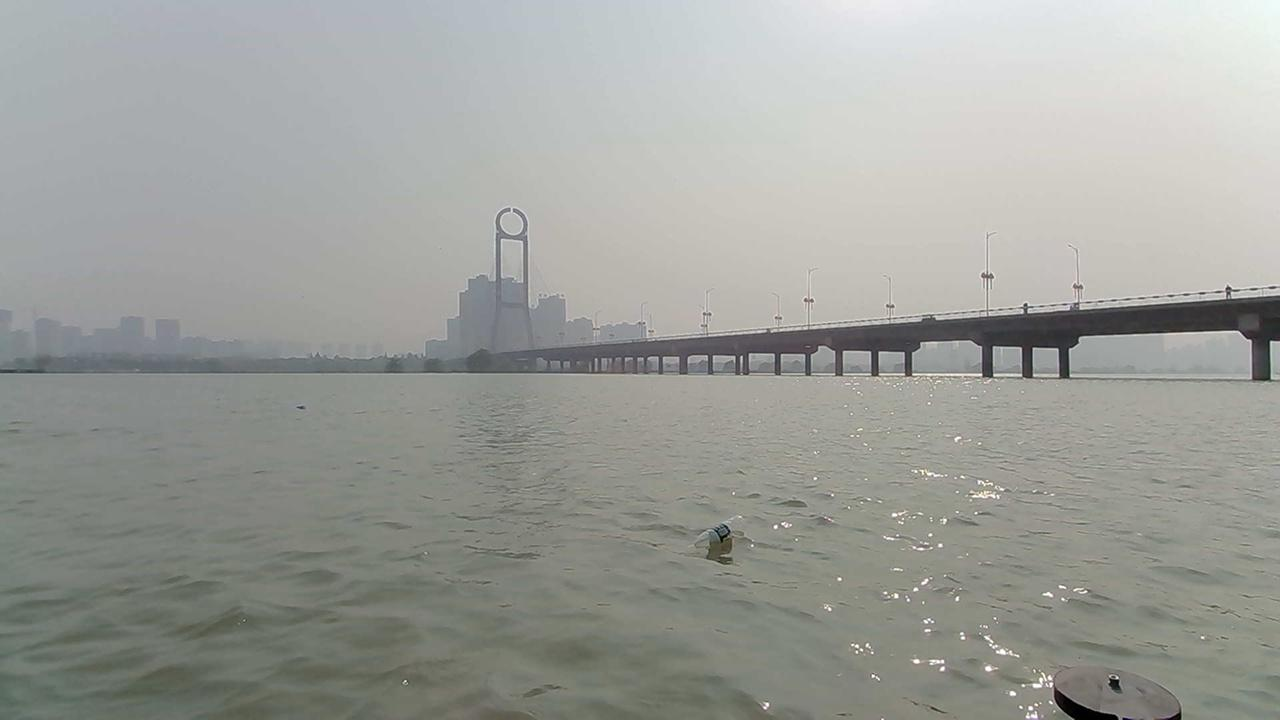bottle: (689, 513, 746, 546), (295, 403, 307, 409)
